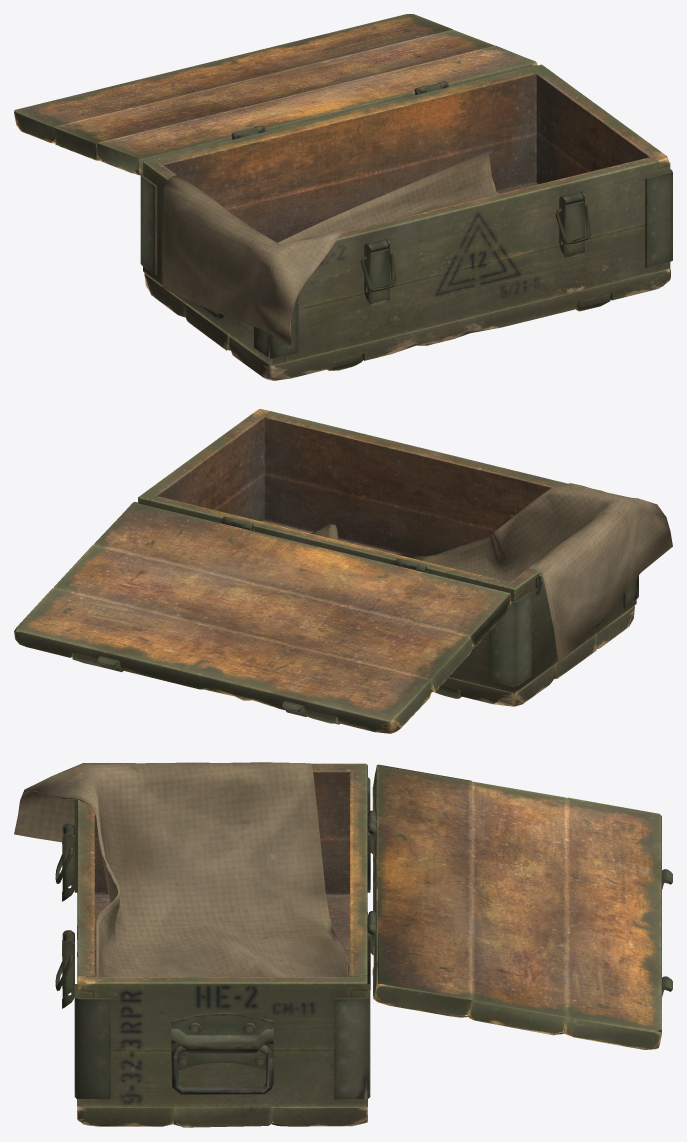
File: military_crate_open.glb
3 renders of one model, top to bottom at view 1: azimuth 30°, elevation 25°; view 2: azimuth 150°, elevation 25°; view 3: azimuth 270°, elevation 25°, orthographic. The views are drawn at different scales.
Parts seen in each view (by area): view 1: military_crate_open; view 2: military_crate_open; view 3: military_crate_open.
Part boxes in pixels (x1=…): military_crate_open: x1=14, y1=14, x2=672, y2=380; military_crate_open: x1=14, y1=409, x2=672, y2=733; military_crate_open: x1=14, y1=762, x2=672, y2=1127.
Size of the model in its own units: 0.8157 by 0.2585 by 0.9756.
Materials: 1 (1 with a texture image).
